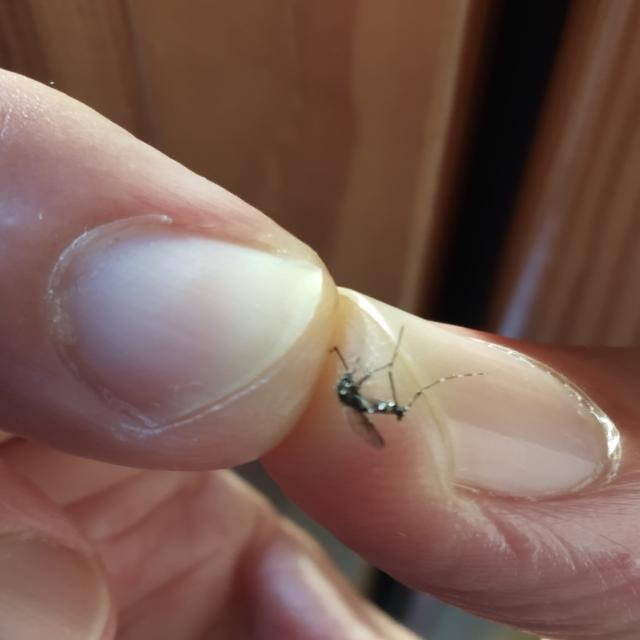albopictus: (311, 335, 484, 445)
